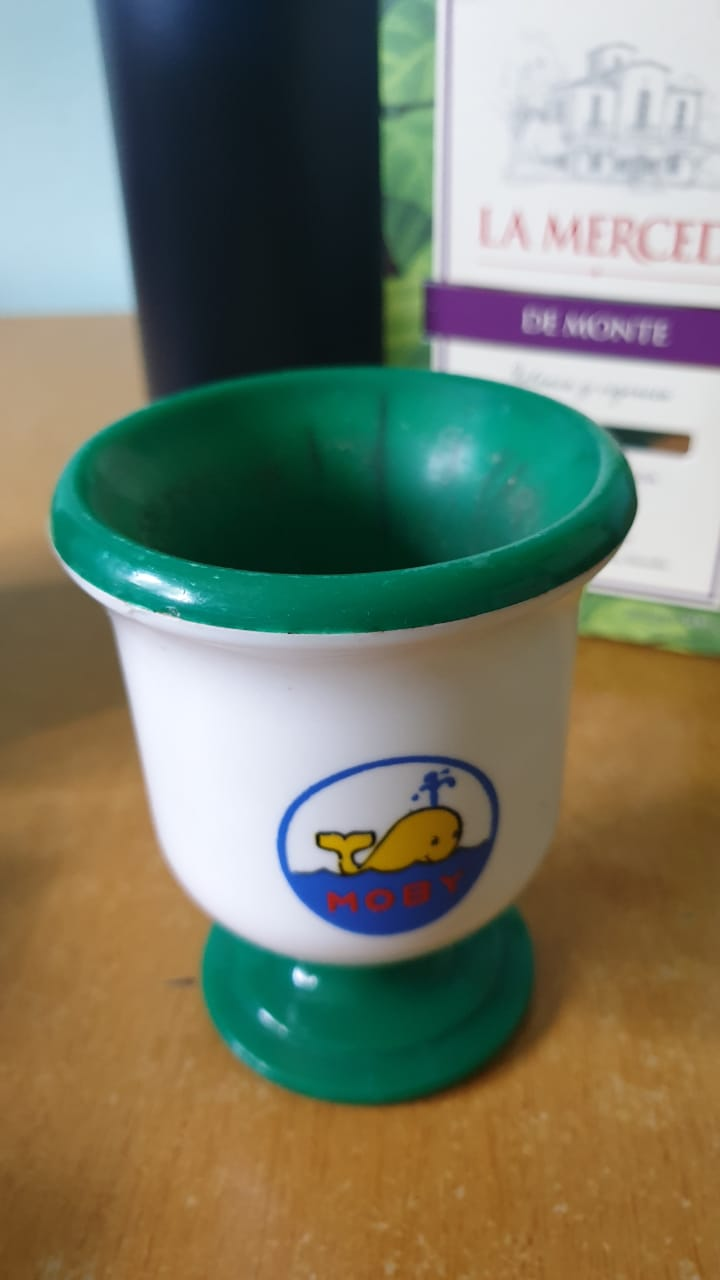mate: (26, 348, 665, 1128)
plastico: (37, 362, 645, 1121)
